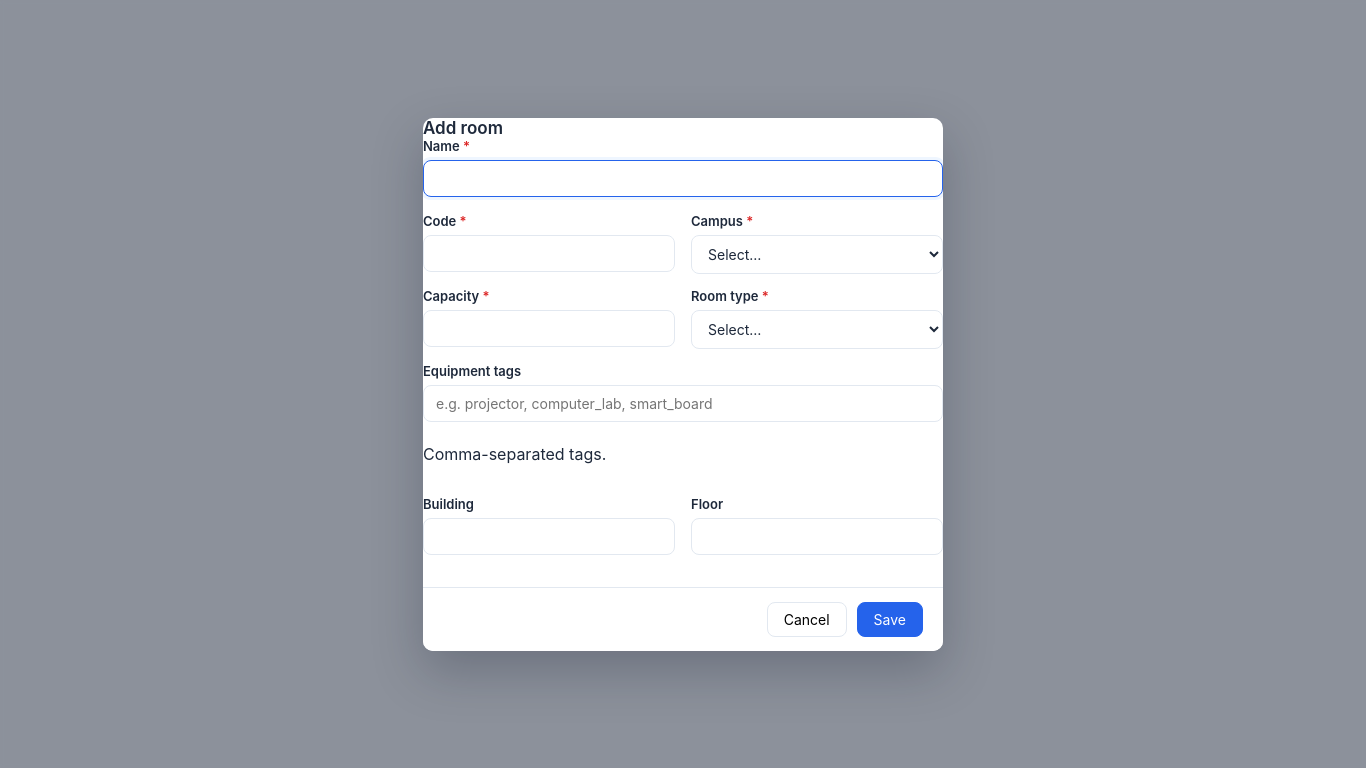
Test: RoomFormModal › create mode › validates code format
Type "invalid code!" into the field labelled "Code *" at (549, 253), box [423, 234, 675, 272]
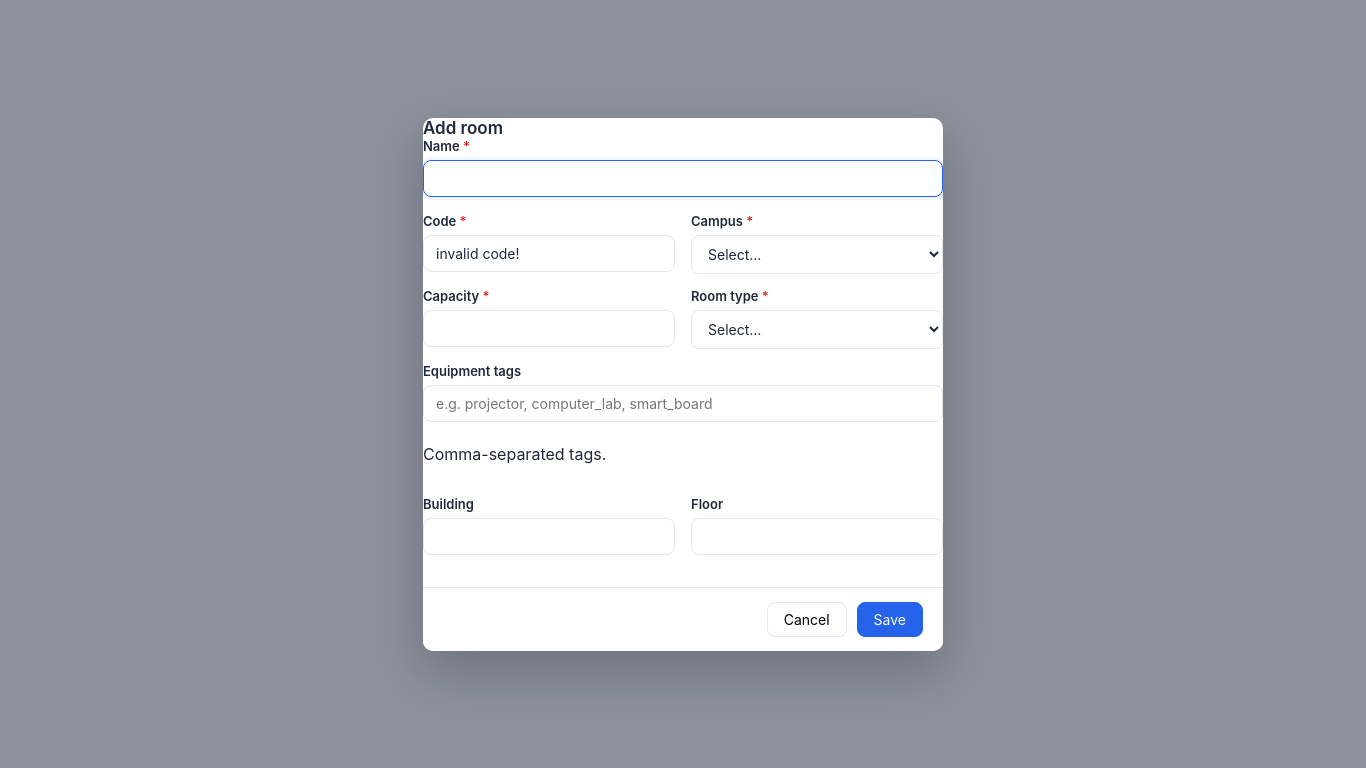
Click the button "Save" at (890, 619), box [857, 602, 923, 636]
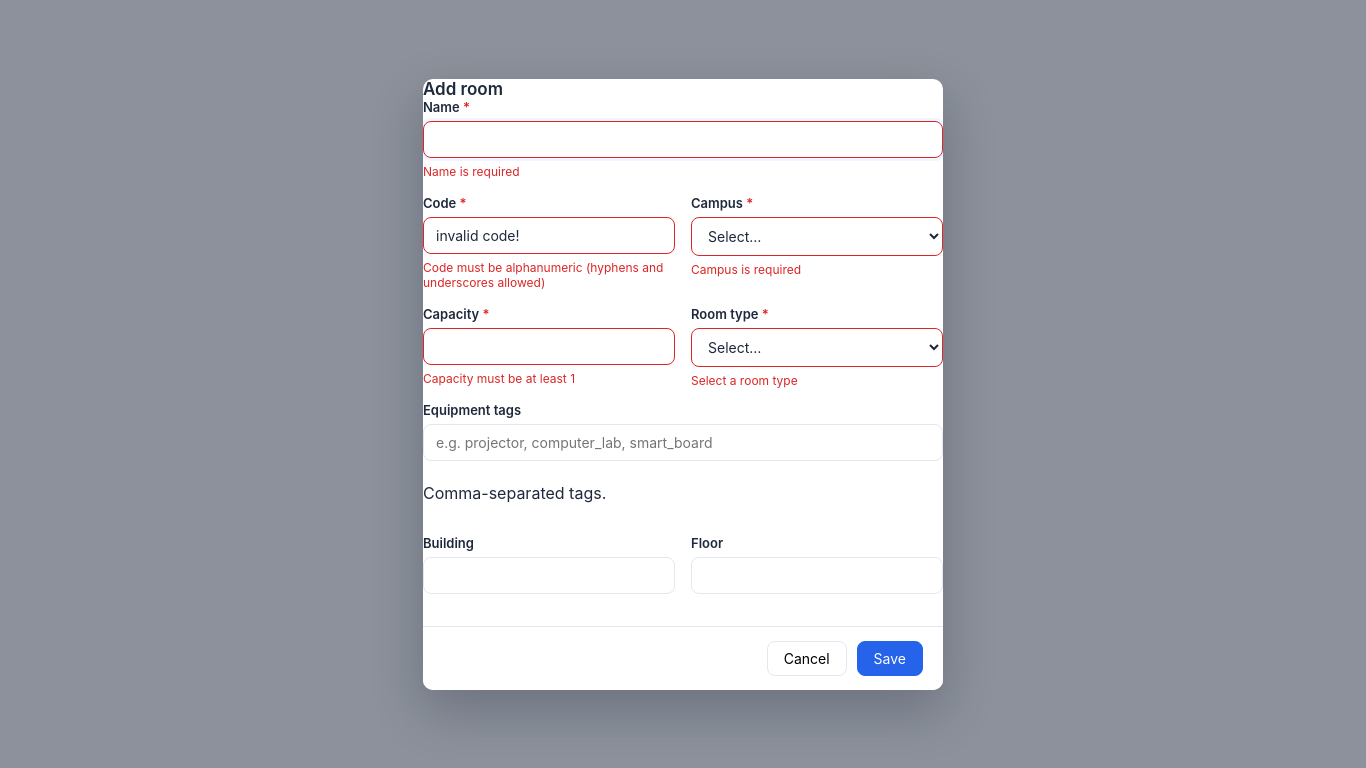
Check: the text "Code must be alphanumeric (hyphens and underscores allowed)" is shown, box [423, 260, 675, 290]
